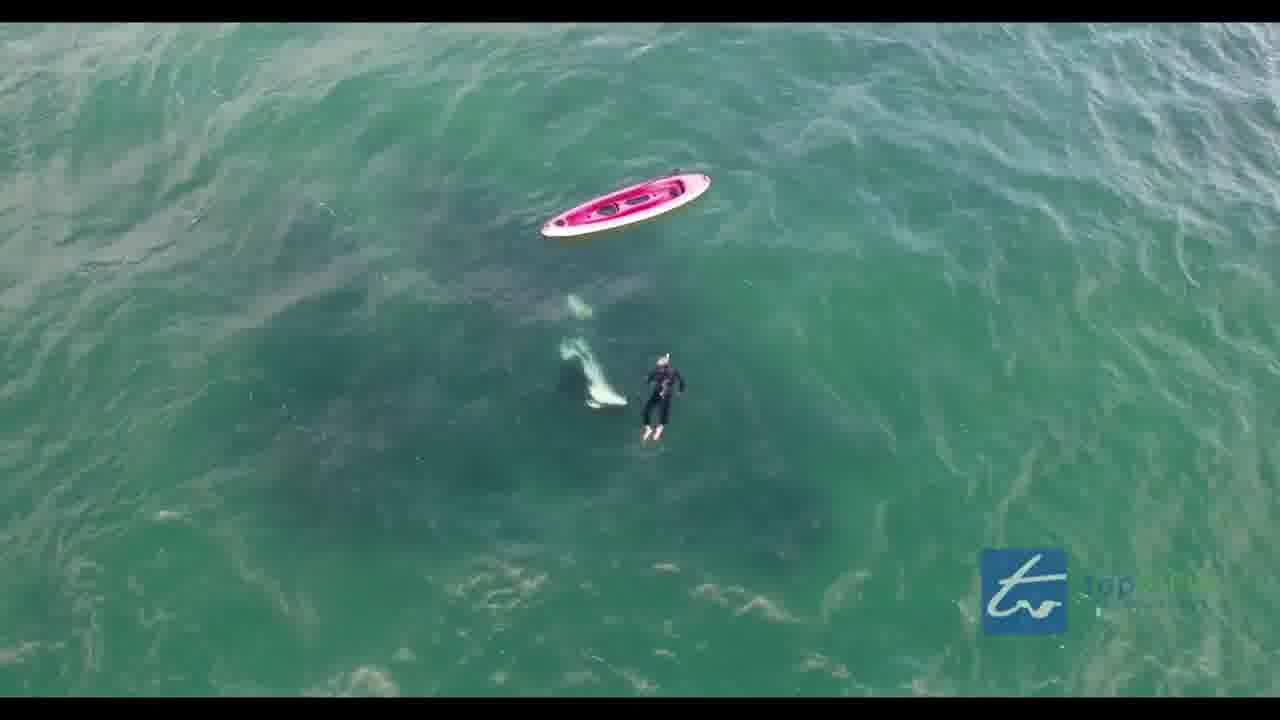human: (646, 343, 682, 442)
